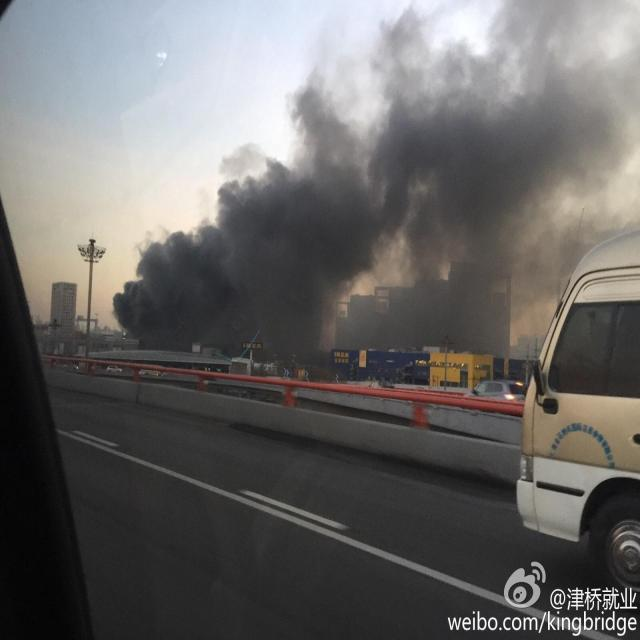smoke: (116, 0, 640, 341)
